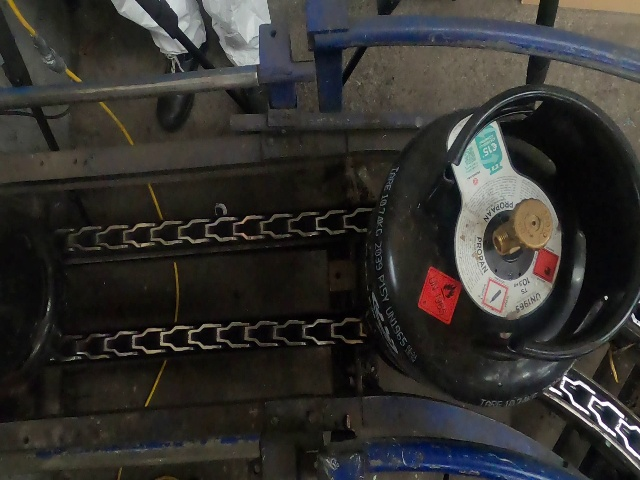gas_bottle: (0, 0, 626, 457)
